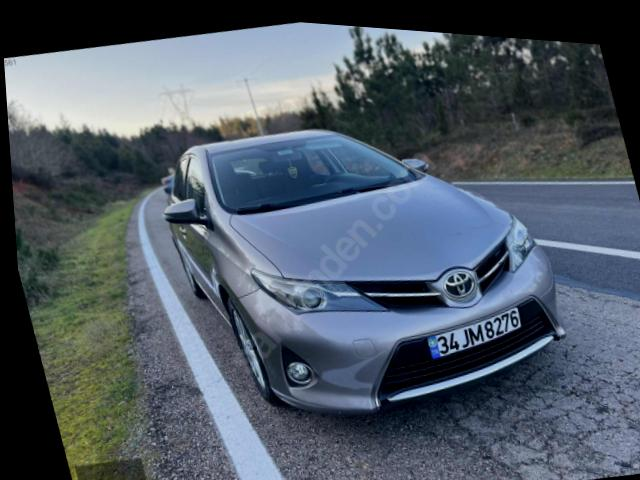plaka: (429, 307, 521, 357)
